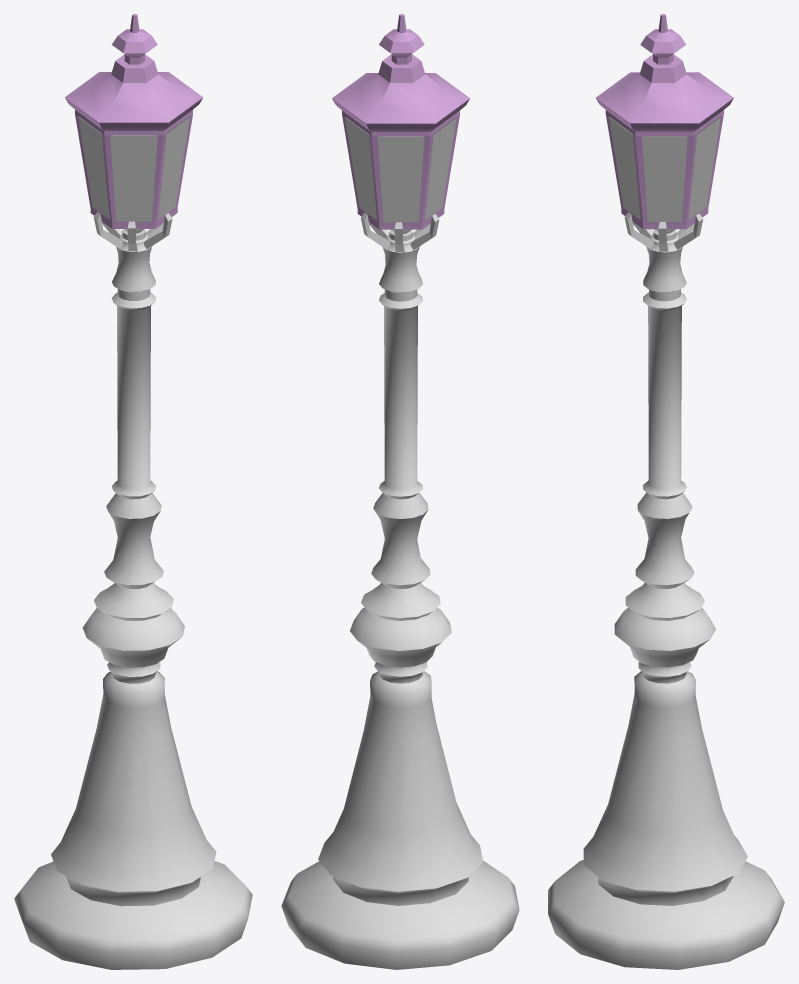
Rendered from Street_lamp.fbx.
The picture shows the model from 3 angles, left to right: view 1: azimuth 30°, elevation 25°; view 2: azimuth 150°, elevation 25°; view 3: azimuth 270°, elevation 25°; orthographic projection.
Visible parts, largest first — view 1: StreetlampBase_low, streetlampHead_low, streetlampHeadGlass_low, StreetlampGrip_low; view 2: StreetlampBase_low, streetlampHead_low, streetlampHeadGlass_low, StreetlampGrip_low; view 3: StreetlampBase_low, streetlampHead_low, streetlampHeadGlass_low, StreetlampGrip_low.
Boxes of the visible parts, x1,y1,x2,y2 form: StreetlampBase_low: [14, 229, 252, 969]; streetlampHead_low: [65, 14, 202, 228]; streetlampHeadGlass_low: [78, 117, 189, 221]; StreetlampGrip_low: [93, 211, 172, 251]; StreetlampBase_low: [281, 229, 519, 969]; streetlampHead_low: [332, 14, 469, 229]; streetlampHeadGlass_low: [345, 117, 456, 222]; StreetlampGrip_low: [360, 212, 439, 252]; StreetlampBase_low: [548, 229, 784, 969]; streetlampHead_low: [596, 14, 733, 229]; streetlampHeadGlass_low: [609, 117, 720, 221]; StreetlampGrip_low: [624, 212, 703, 251].
Bounding box in the file's own units: 82.19 × 345 × 81.59.
